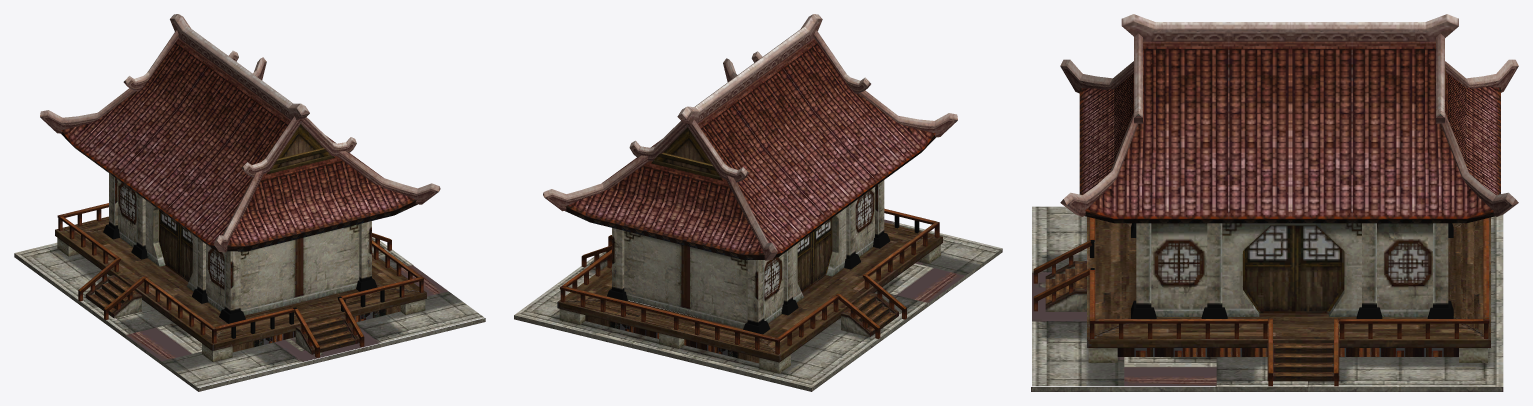
The model's file is house3_c.gltf.
The picture shows the model from 3 angles, left to right: view 1: azimuth 30°, elevation 25°; view 2: azimuth 150°, elevation 25°; view 3: azimuth 270°, elevation 25°; orthographic projection. The views are drawn at different scales.
Parts seen in each view (by area): view 1: B1-008-HOUSE5-1; view 2: B1-008-HOUSE5-1; view 3: B1-008-HOUSE5-1.
Boxes of the visible parts, <box> form: B1-008-HOUSE5-1: <box>14,14,485,391</box>; B1-008-HOUSE5-1: <box>514,14,1002,391</box>; B1-008-HOUSE5-1: <box>1031,14,1518,391</box>.
Size of the model in its own units: 14.76 by 11 by 16.91.
Materials: 5 (5 with a texture image).
